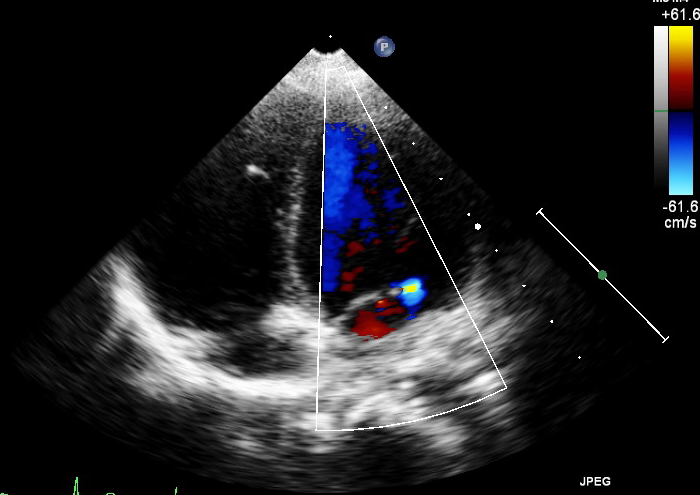MR: (347, 277, 426, 307)
